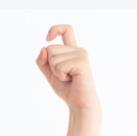anticlockwise: (34, 21, 98, 105)
